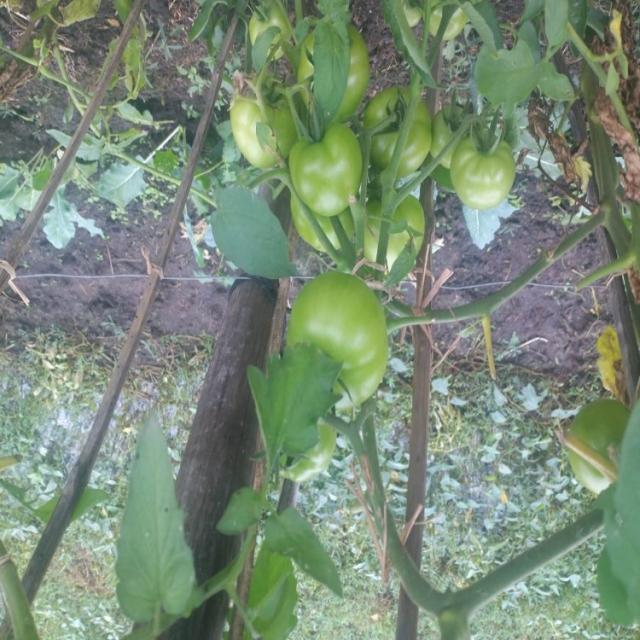tomato: (277, 256, 408, 402), (290, 29, 391, 126), (453, 121, 530, 215), (375, 82, 444, 177), (376, 171, 442, 270), (207, 84, 278, 163), (283, 203, 362, 273), (278, 128, 341, 200), (435, 94, 487, 177), (399, 1, 434, 42), (429, 12, 466, 46)
